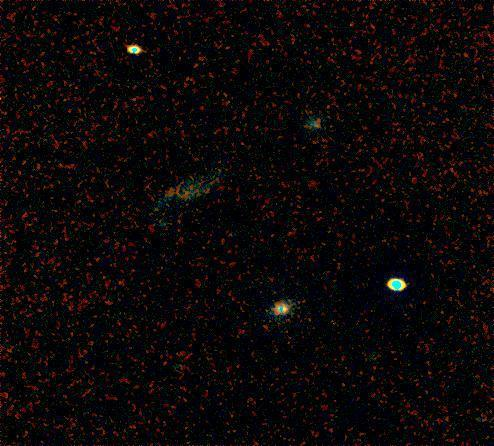star: (182, 195, 212, 225)
